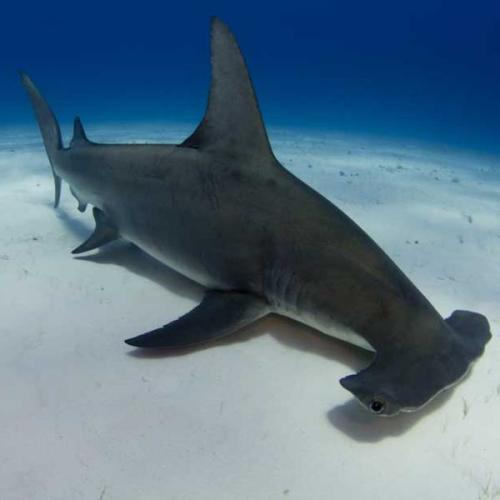shark-endangered: (19, 16, 492, 421)
